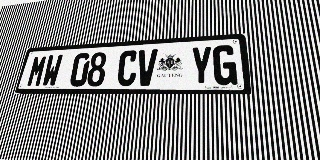0: (69, 53, 91, 87)
8: (86, 52, 108, 86)
C: (116, 50, 138, 86)
G: (213, 45, 238, 85)
M: (26, 55, 48, 87)
V: (136, 49, 158, 86)
W: (41, 54, 63, 87)
Y: (190, 46, 213, 85)
